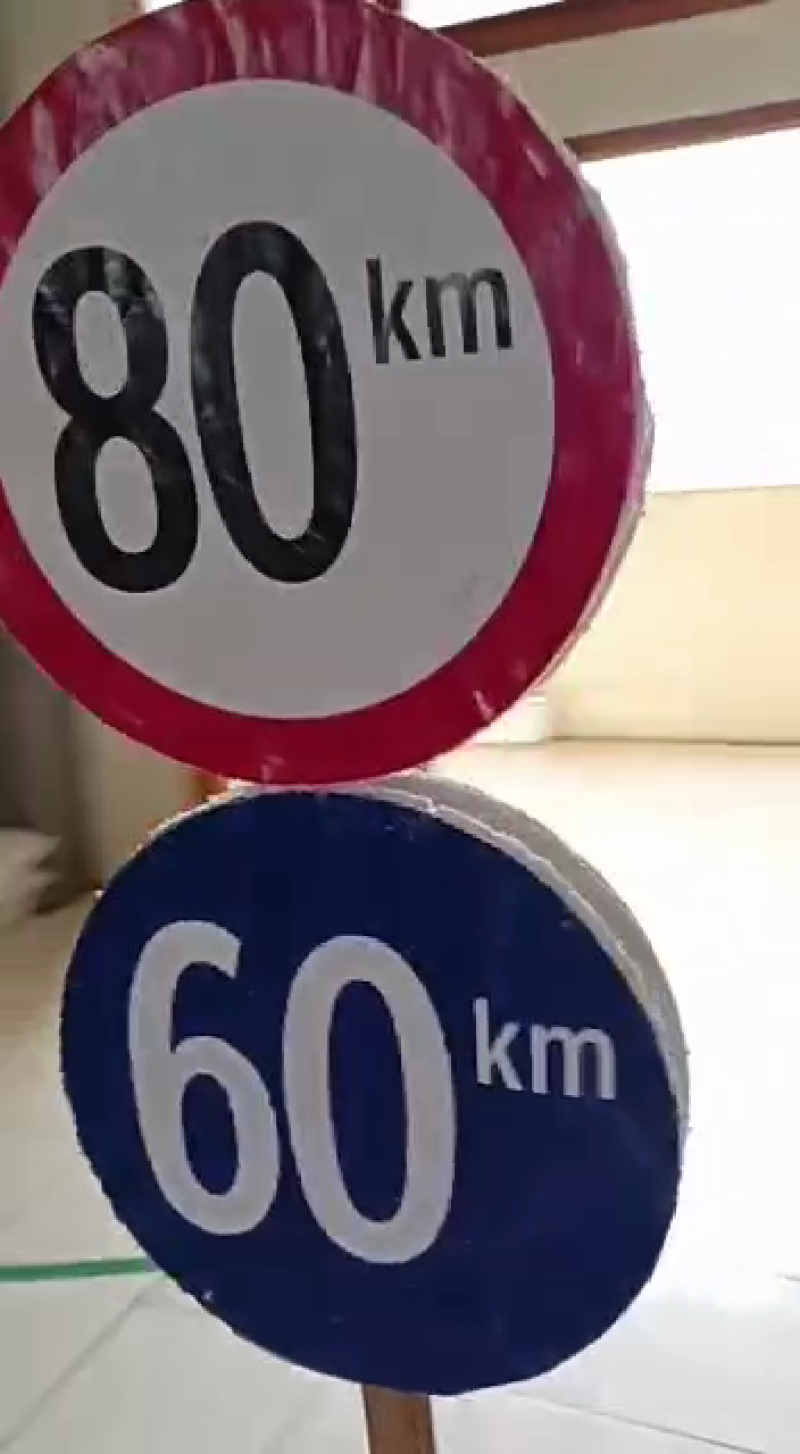batas maksimal 80kmperjam minimal 60kmperjam: (1, 1, 700, 1398)
